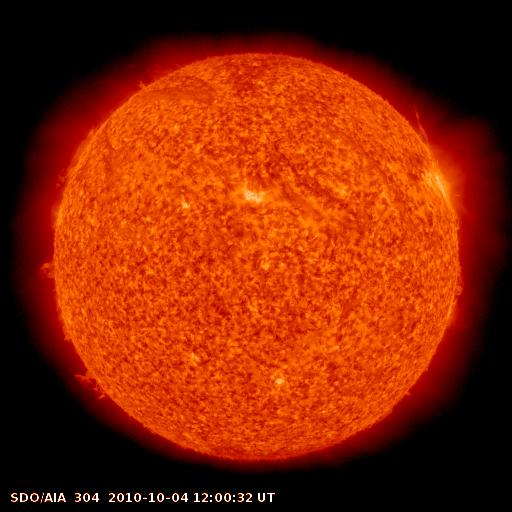prominence: (55, 117, 106, 184), (66, 359, 117, 408), (27, 250, 71, 295), (405, 93, 436, 154), (442, 260, 470, 319)
